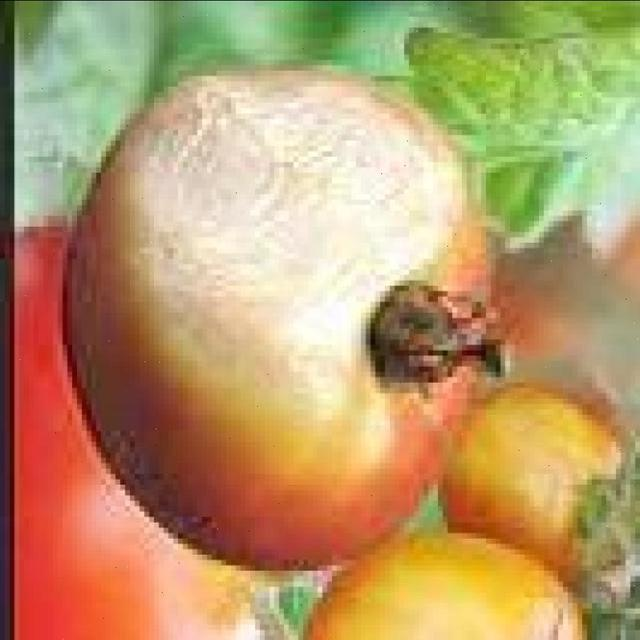Sunscald Fruit: (71, 25, 308, 301)
